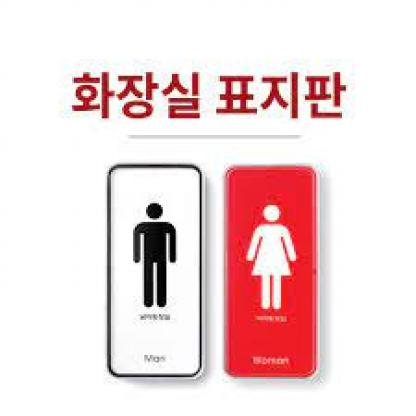toilet: (131, 195, 179, 310), (248, 204, 298, 309)
